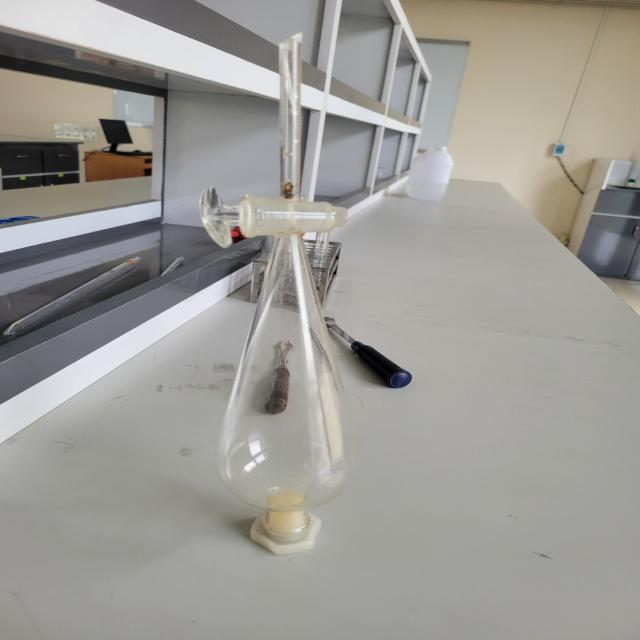Separating_Funnel: (165, 27, 416, 577)
